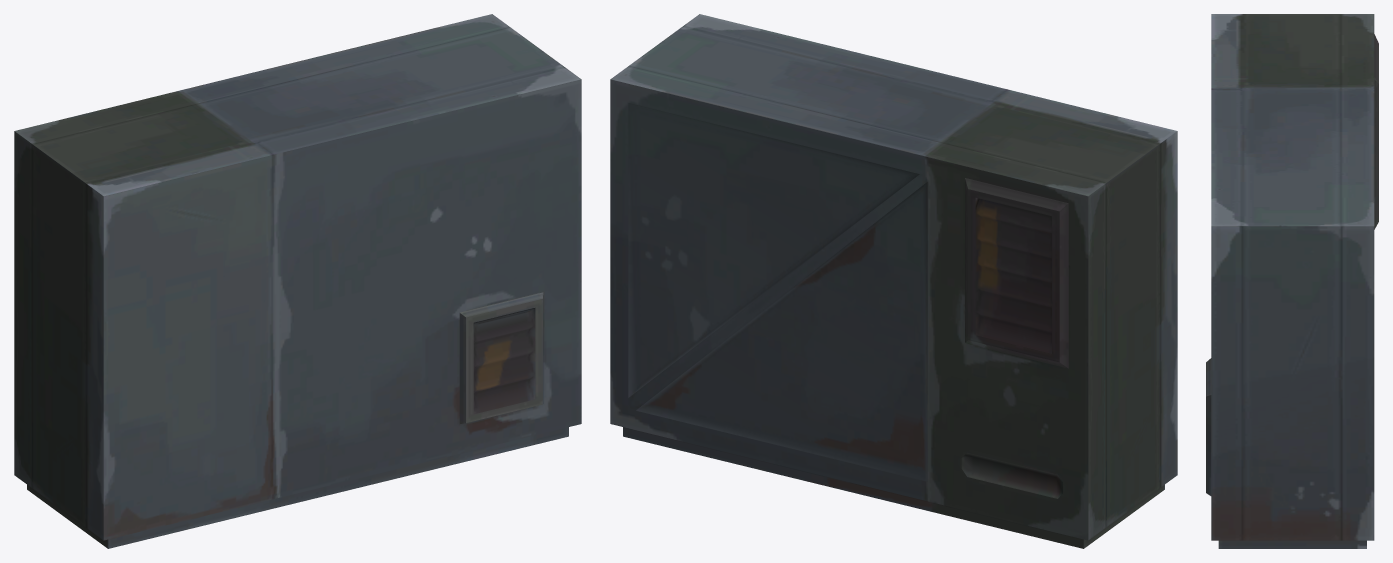
The picture shows the model from 3 angles, left to right: view 1: azimuth 30°, elevation 25°; view 2: azimuth 150°, elevation 25°; view 3: azimuth 270°, elevation 25°; orthographic projection. The views are drawn at different scales.
Parts seen in each view (by area): view 1: ModernTech_3_ElectricalBoxKitF_LOD0; view 2: ModernTech_3_ElectricalBoxKitF_LOD0; view 3: ModernTech_3_ElectricalBoxKitF_LOD0.
Part boxes in pixels (x1,y1,x2,y2): ModernTech_3_ElectricalBoxKitF_LOD0: (14,14,581,548); ModernTech_3_ElectricalBoxKitF_LOD0: (610,14,1177,548); ModernTech_3_ElectricalBoxKitF_LOD0: (1206,14,1378,548).
Size of the model in its own units: 1.33 by 0.9528 by 0.4571.
Materials: 1 (1 with a texture image).
